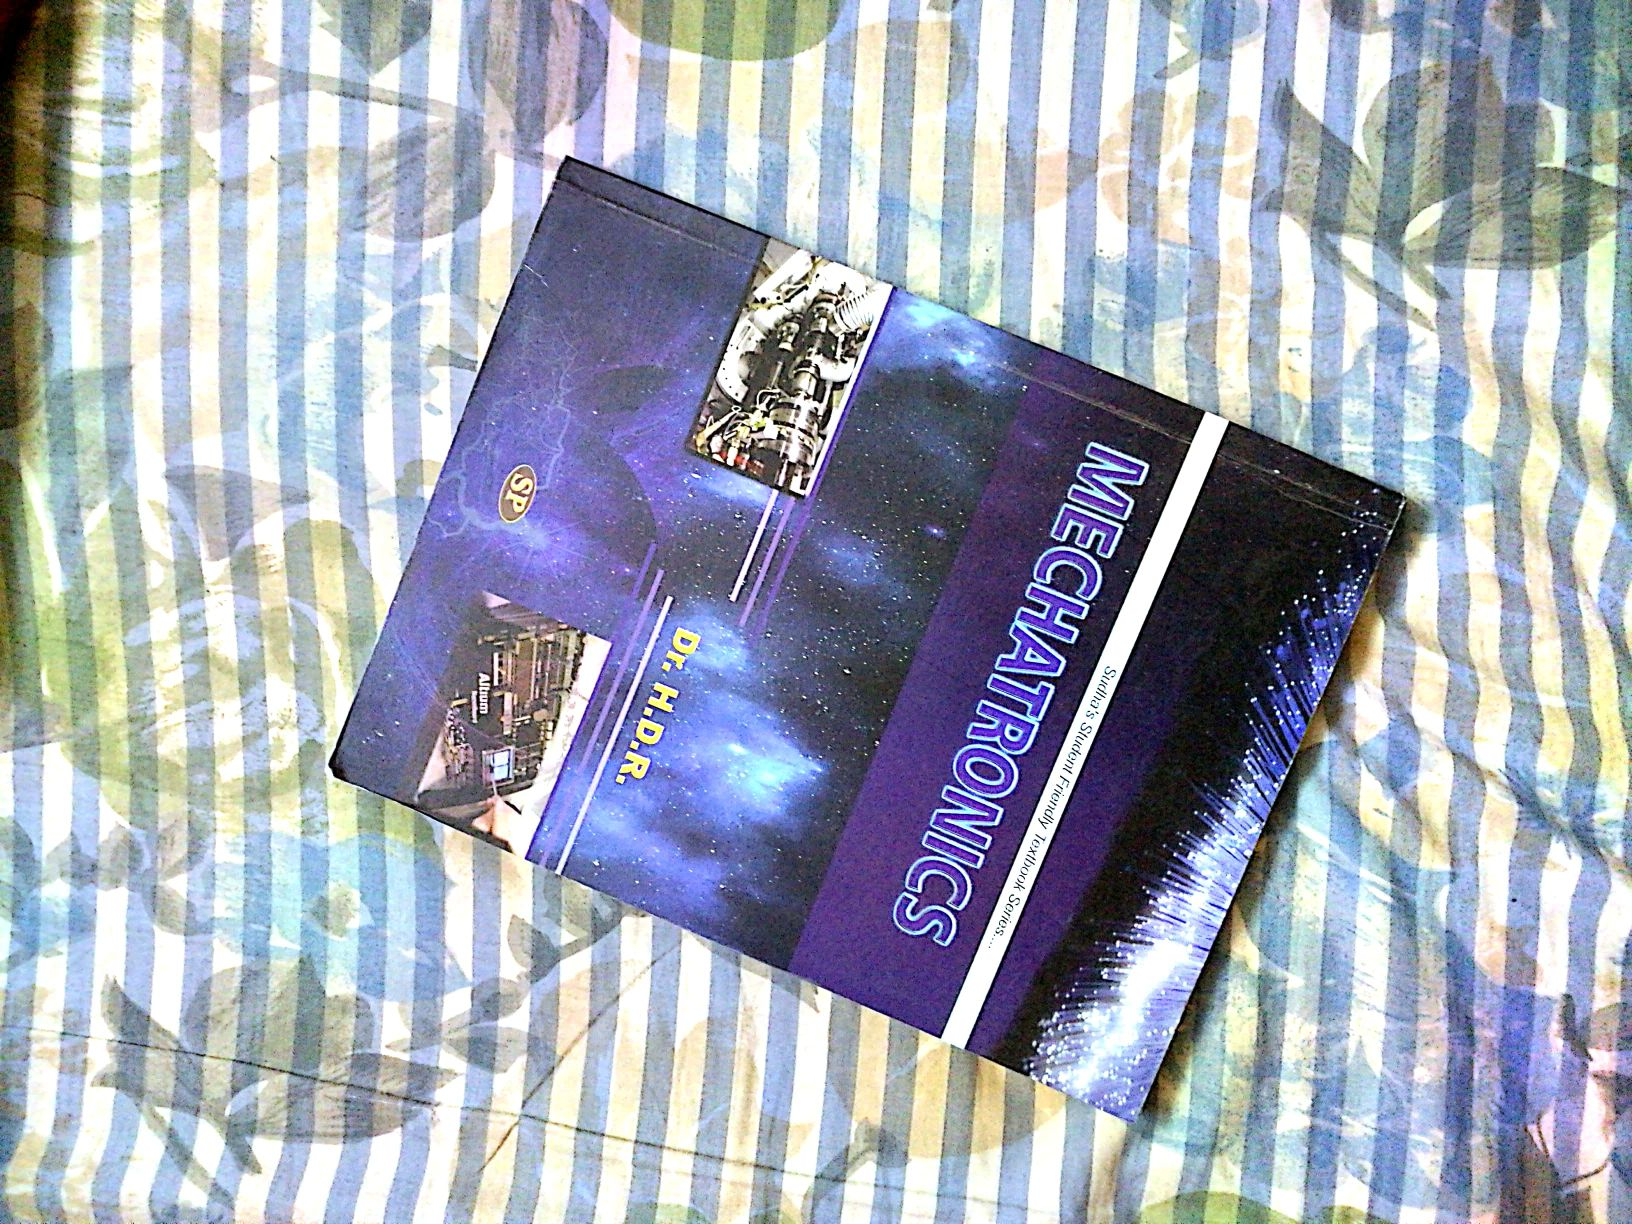mechatronics: (324, 138, 1426, 1143)
